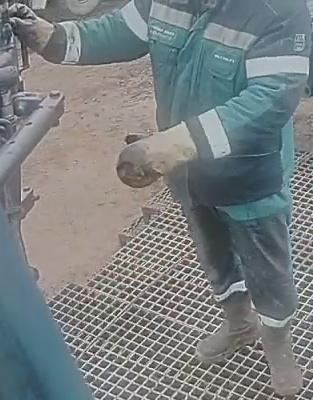gloves: (114, 113, 211, 188), (7, 1, 64, 57)
vest: (127, 0, 312, 208)
